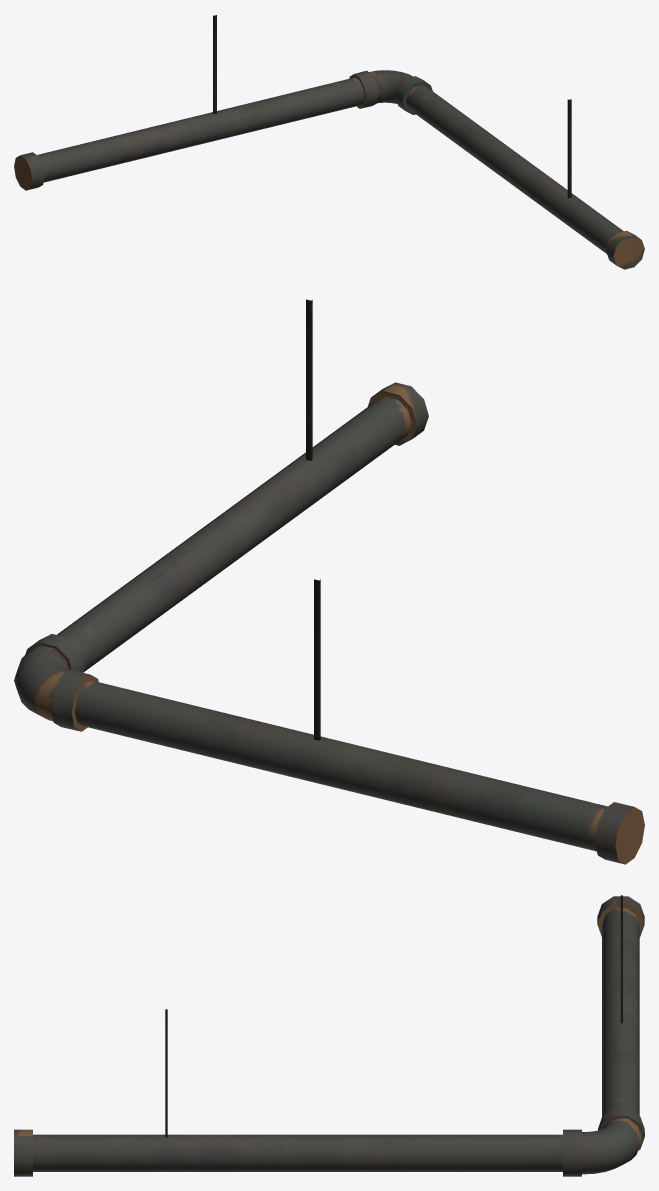
The picture shows the model from 3 angles, top to bottom: view 1: azimuth 30°, elevation 25°; view 2: azimuth 150°, elevation 25°; view 3: azimuth 270°, elevation 25°; orthographic projection. The views are drawn at different scales.
Parts seen in each view (by area): view 1: body0_model0_lod0_mesh0; view 2: body0_model0_lod0_mesh0; view 3: body0_model0_lod0_mesh0.
Part boxes in pixels (x1,y1,x2,y2): body0_model0_lod0_mesh0: [14, 15, 644, 269]; body0_model0_lod0_mesh0: [14, 299, 644, 864]; body0_model0_lod0_mesh0: [14, 895, 644, 1176].
Bounding box in the file's own units: 61.65 × 19.2 × 66.65.
Materials: 1 (1 with a texture image).
